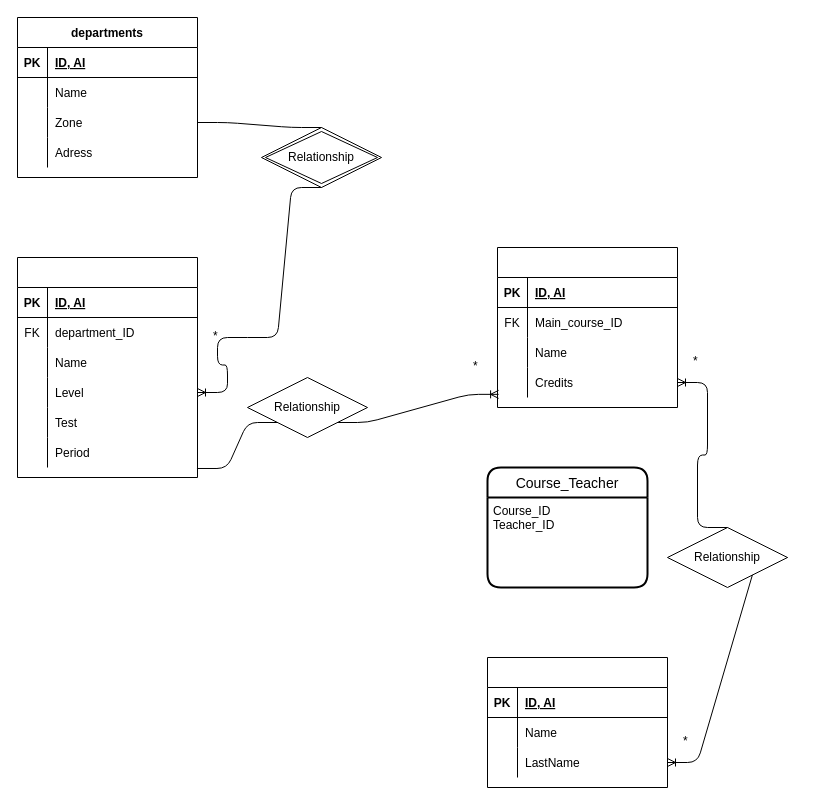
Some shapes in this 813 by 805 pixel diagram are drawn without their labels. Here are the shapes that lost their labels. From the top down, the box of each, then its label:
(496, 246, 678, 408): Courses
(16, 256, 198, 478): main_courses
(486, 656, 668, 788): Teachers
